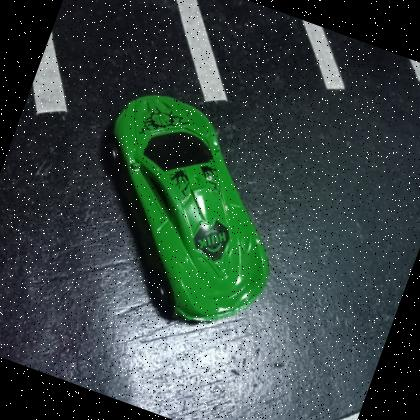Car: (110, 96, 270, 325)
